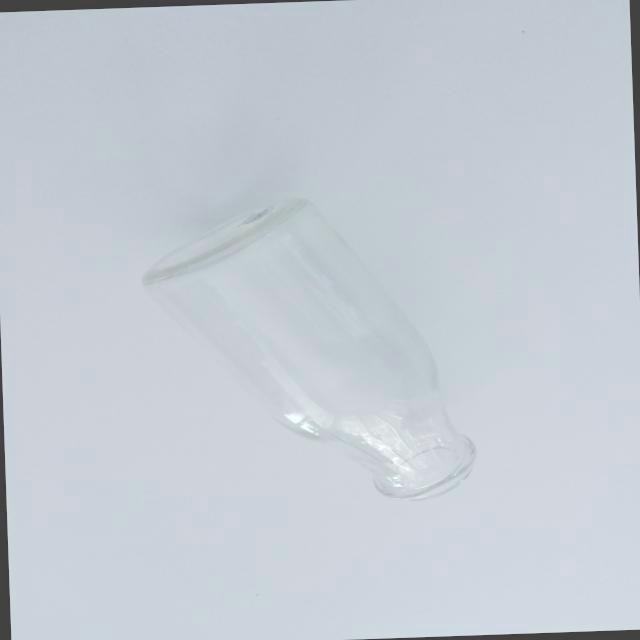glass: (118, 173, 496, 524)
